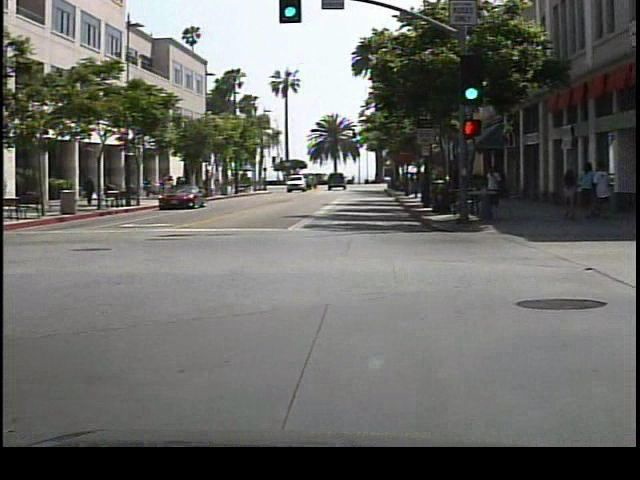person: (486, 160, 511, 214), (84, 172, 101, 207)
